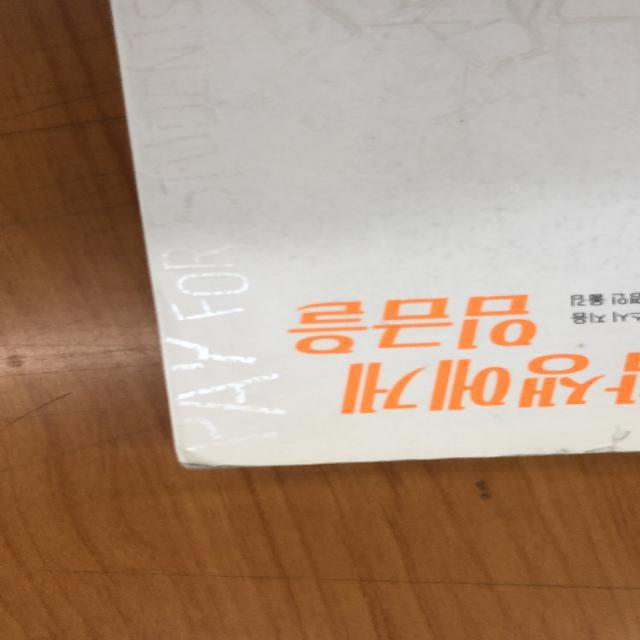Ripped: (547, 411, 639, 464)
Wornout: (160, 453, 271, 480)
